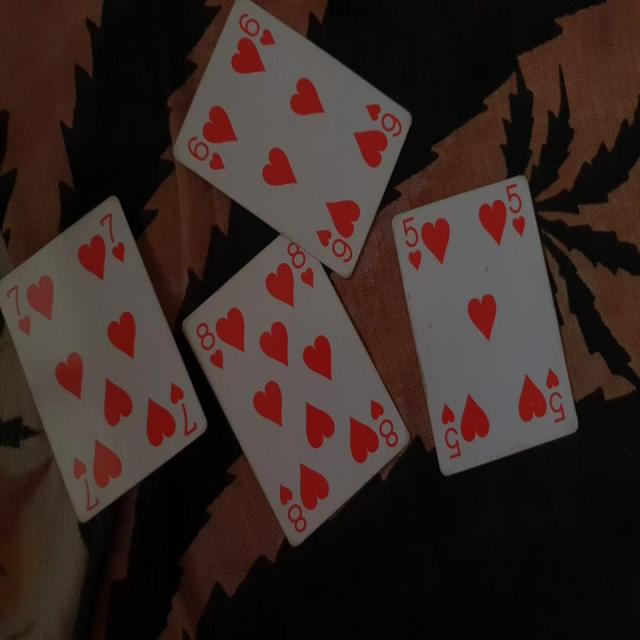5 Hearts: (388, 170, 588, 477)
6 Hearts: (165, 1, 441, 281)
7 Hearts: (1, 189, 211, 538)
8 Hearts: (174, 225, 414, 560)
